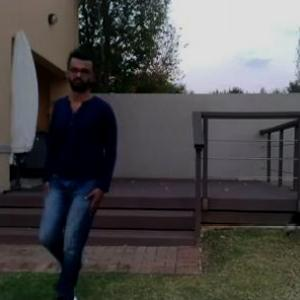follow: (36, 42, 130, 299)
